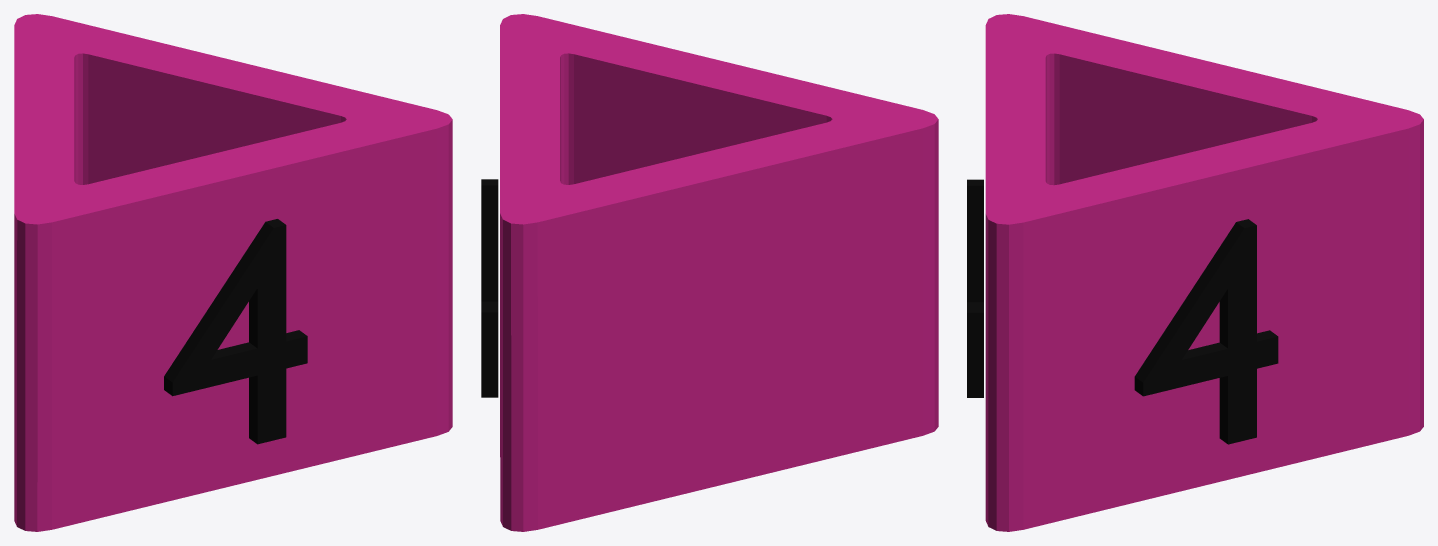
File: Four2_shadow.OBJ
3 renders of one model, left to right at view 1: azimuth 30°, elevation 25°; view 2: azimuth 150°, elevation 25°; view 3: azimuth 270°, elevation 25°, orthographic.
Parts seen in each view (by area): view 1: /ambf/icl/Four2_shadow_Four2; view 2: /ambf/icl/Four2_shadow_Four2; view 3: /ambf/icl/Four2_shadow_Four2.
Boxes of the visible parts, box(x1,y1,x2,y2) form: /ambf/icl/Four2_shadow_Four2: box(14, 14, 452, 531); /ambf/icl/Four2_shadow_Four2: box(481, 14, 938, 531); /ambf/icl/Four2_shadow_Four2: box(967, 14, 1423, 531).
Bounding box in the file's own units: 0.1426 × 0.0971 × 0.1308.
